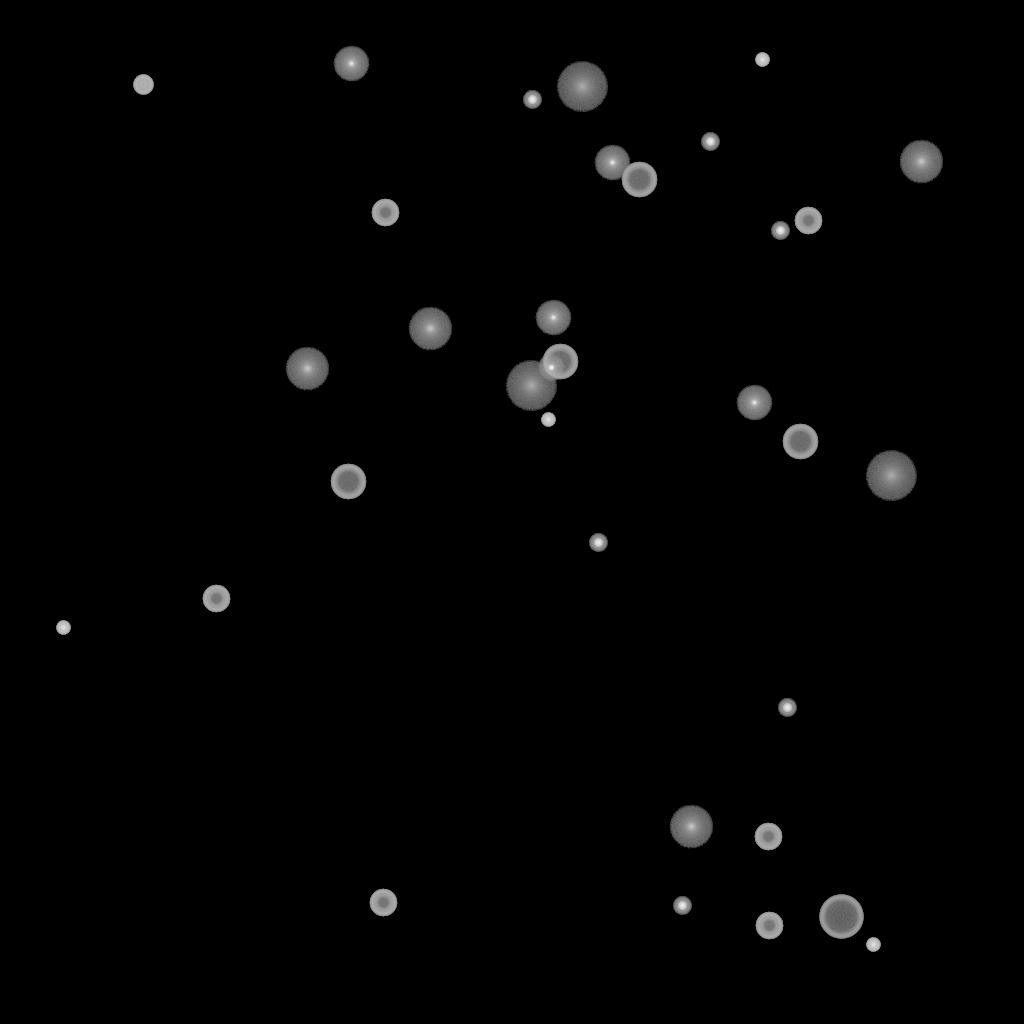depth:-10: (537, 354, 565, 382)
depth:-20: (771, 222, 789, 240), (701, 133, 719, 151), (778, 699, 796, 717), (523, 91, 541, 109), (589, 534, 607, 552), (673, 897, 691, 915)
depth:-30: (755, 53, 769, 67), (56, 621, 70, 635), (541, 413, 555, 427), (866, 938, 880, 952)
depth:-40: (133, 75, 153, 95)
depth:-50: (794, 207, 822, 235), (755, 912, 783, 940), (371, 199, 399, 227), (202, 585, 230, 613), (369, 889, 397, 917), (754, 823, 782, 851)
depth:-60: (330, 464, 366, 500), (621, 162, 657, 198), (542, 344, 578, 380), (782, 424, 818, 460)
depth:-70: (819, 895, 863, 939)
depth:0: (535, 300, 571, 336), (736, 385, 772, 421), (333, 46, 369, 82), (594, 145, 630, 181)
depth:10: (669, 805, 713, 849), (899, 140, 943, 184), (408, 307, 452, 351), (285, 347, 329, 391)
depth:20: (556, 62, 608, 112), (505, 361, 557, 411), (865, 451, 917, 501)
